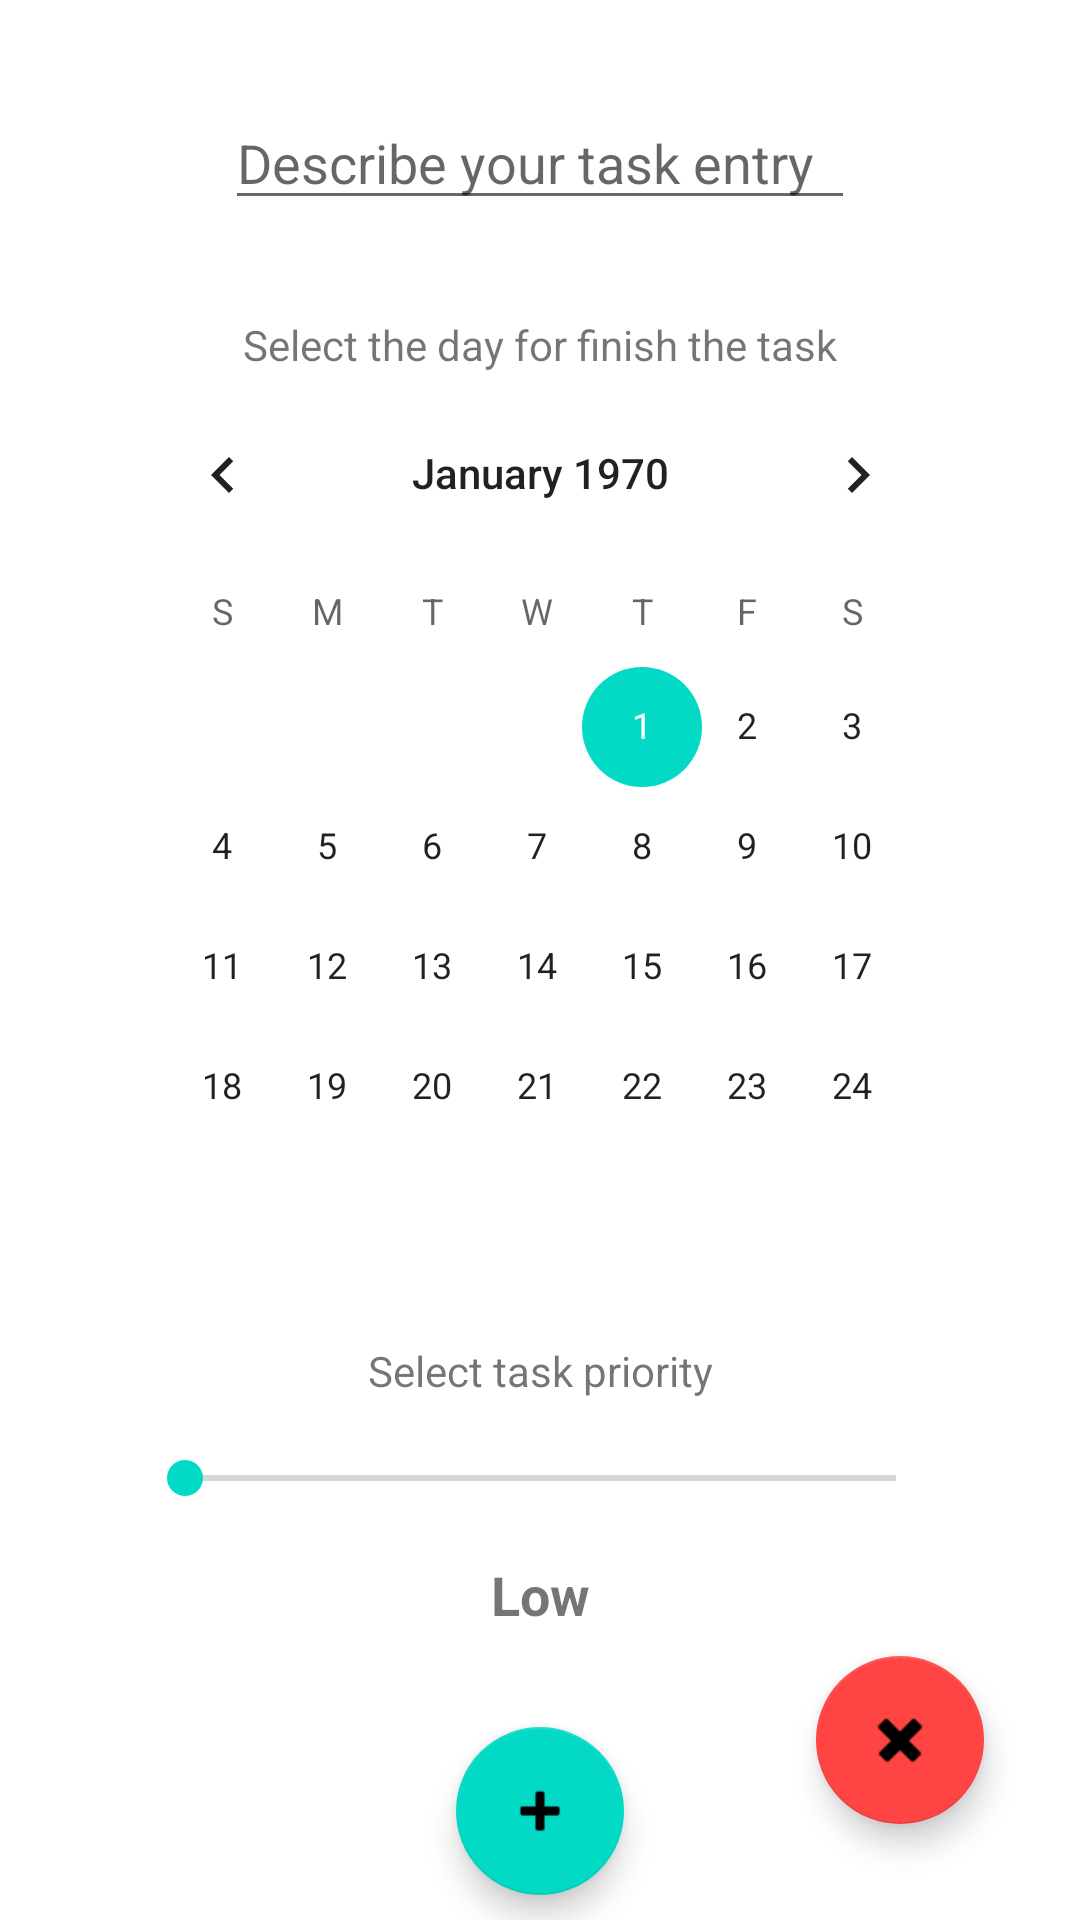

Screen size 1080x1920. Icon name, then its center in pixels as (x=x, y=y):
add: (x=540, y=1811)
delete: (x=900, y=1740)
